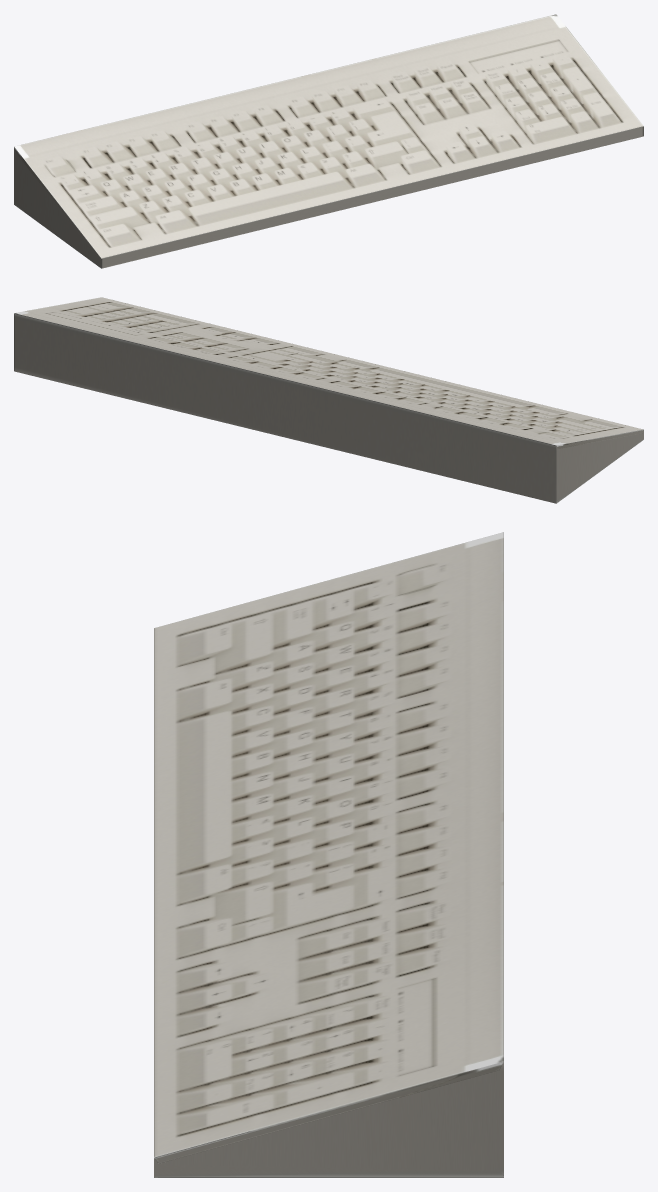
The model's file is klawiatura.fbx.
The picture shows the model from 3 angles, top to bottom: view 1: azimuth 30°, elevation 25°; view 2: azimuth 150°, elevation 25°; view 3: azimuth 270°, elevation 25°; orthographic projection. The views are drawn at different scales.
Parts seen in each view (by area): view 1: Cube; view 2: Cube; view 3: Cube.
Part boxes in pixels (x1=…): Cube: x1=14, y1=14, x2=643, y2=268; Cube: x1=14, y1=297, x2=643, y2=503; Cube: x1=154, y1=532, x2=503, y2=1177.
Bounding box in the file's own units: 403 × 41.35 × 113.
1 material, 1 textured.
